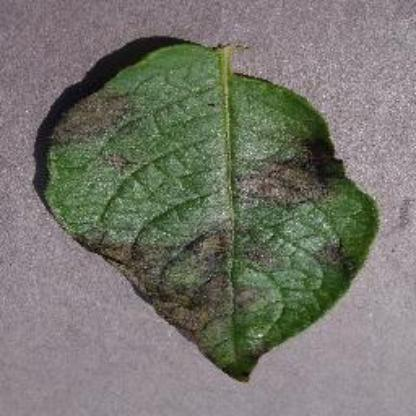Late-Blight: (20, 25, 398, 388)
